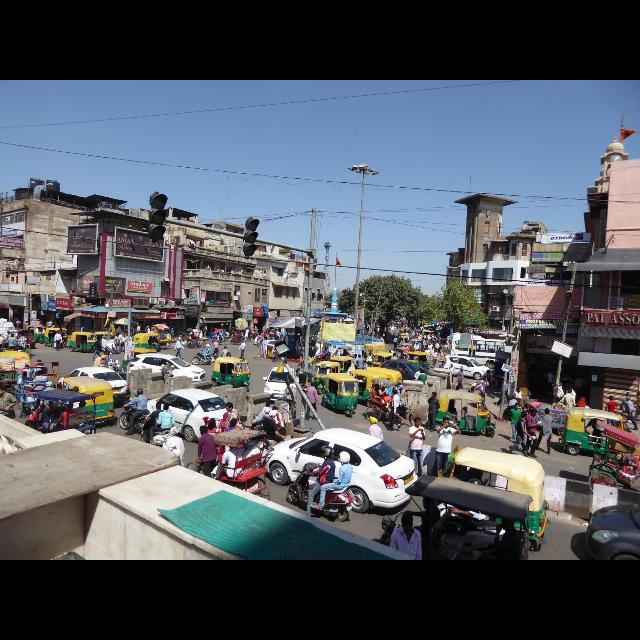head: (401, 514, 415, 532), (322, 447, 334, 459), (468, 480, 480, 492), (340, 453, 350, 463), (442, 417, 450, 428), (200, 425, 208, 435), (225, 402, 233, 412), (171, 427, 179, 437), (45, 404, 53, 414), (414, 417, 422, 427), (269, 409, 277, 418), (578, 399, 586, 408), (223, 412, 230, 422), (230, 419, 238, 427), (66, 403, 74, 411), (79, 400, 87, 408), (370, 417, 378, 425), (229, 440, 237, 448), (0, 386, 6, 396), (522, 412, 528, 421), (209, 419, 215, 427), (265, 408, 271, 416), (265, 400, 271, 408), (137, 388, 143, 396), (531, 409, 537, 417), (156, 404, 162, 411), (514, 404, 520, 411), (272, 406, 278, 412), (163, 404, 169, 410), (46, 405, 52, 411), (47, 382, 53, 388), (22, 371, 28, 377), (38, 371, 44, 377), (24, 364, 30, 370), (101, 354, 107, 360), (544, 408, 550, 414), (625, 396, 631, 402), (626, 392, 632, 398), (554, 397, 560, 403), (431, 392, 437, 398), (392, 390, 398, 396), (310, 382, 316, 388), (285, 379, 291, 385), (18, 346, 24, 350), (609, 396, 613, 402), (592, 414, 598, 418), (516, 388, 522, 392), (484, 376, 488, 382), (400, 385, 404, 391), (419, 368, 423, 374), (442, 360, 446, 366), (21, 333, 25, 337), (11, 334, 15, 338), (95, 338, 99, 342), (108, 353, 112, 357), (568, 390, 572, 394), (569, 386, 573, 390), (559, 382, 563, 386), (505, 378, 509, 382), (461, 368, 465, 372), (206, 344, 210, 348), (351, 364, 355, 368), (358, 354, 362, 358), (354, 354, 358, 358), (422, 370, 426, 374), (165, 362, 169, 366), (59, 328, 62, 332), (82, 324, 85, 328), (451, 364, 454, 368), (225, 346, 228, 350), (55, 322, 57, 326), (56, 332, 60, 334), (116, 334, 120, 336), (124, 334, 126, 338), (512, 395, 514, 399), (216, 338, 218, 342), (180, 338, 182, 342), (276, 342, 278, 346), (370, 352, 372, 356), (394, 353, 396, 357), (49, 320, 52, 322), (125, 334, 128, 336), (242, 341, 244, 344), (162, 331, 164, 334), (336, 350, 339, 352), (8, 332, 10, 334), (0, 334, 2, 336), (17, 319, 19, 321), (26, 322, 28, 324), (118, 333, 120, 335), (130, 335, 132, 337), (167, 332, 169, 334), (148, 326, 150, 328), (246, 328, 248, 330), (260, 333, 262, 335), (266, 330, 268, 332), (261, 331, 263, 333), (278, 330, 280, 332), (326, 346, 328, 348), (334, 346, 336, 348), (389, 350, 391, 352), (396, 337, 398, 339), (394, 333, 396, 335), (256, 327, 258, 329)
person: (300, 444, 338, 524), (308, 448, 354, 512), (433, 415, 463, 487), (160, 424, 187, 502), (193, 422, 219, 498), (258, 410, 286, 472), (507, 410, 538, 460), (211, 441, 247, 484), (362, 414, 386, 478), (122, 387, 152, 437), (146, 402, 177, 450), (406, 415, 428, 481), (51, 400, 80, 444), (141, 399, 167, 447), (250, 399, 274, 447), (533, 407, 555, 457), (202, 417, 222, 471), (523, 406, 543, 460), (1, 384, 20, 440), (40, 378, 60, 428), (38, 394, 61, 434), (264, 404, 284, 446), (301, 380, 321, 422), (559, 386, 577, 432), (36, 403, 60, 437), (584, 414, 604, 454), (224, 401, 242, 445), (507, 401, 525, 445), (386, 388, 404, 432), (223, 417, 239, 465), (72, 398, 90, 440), (216, 412, 230, 464), (425, 390, 441, 434), (622, 394, 640, 432), (551, 379, 567, 421), (602, 394, 620, 431), (572, 397, 588, 438), (279, 377, 297, 413), (13, 370, 32, 404), (618, 389, 634, 429), (27, 368, 49, 396), (495, 376, 513, 408), (394, 384, 408, 424), (551, 395, 567, 429), (475, 374, 491, 408), (505, 395, 521, 427), (564, 384, 576, 422), (453, 366, 467, 396), (263, 408, 279, 434), (160, 362, 174, 391), (92, 353, 106, 381), (512, 384, 526, 412), (16, 332, 28, 362), (346, 362, 358, 392), (90, 338, 104, 362), (416, 369, 428, 397), (20, 363, 32, 389), (220, 346, 232, 372), (173, 336, 185, 362), (105, 352, 117, 376), (355, 353, 365, 381), (52, 331, 64, 353), (6, 333, 16, 359), (447, 362, 457, 388), (414, 366, 424, 392), (14, 346, 24, 370), (4, 330, 14, 354), (210, 337, 220, 361), (389, 352, 399, 376), (237, 340, 247, 362), (202, 342, 212, 364), (321, 344, 332, 364), (271, 342, 281, 362), (332, 349, 342, 369), (329, 344, 338, 364), (116, 331, 124, 353), (438, 360, 446, 382), (50, 321, 60, 337), (57, 327, 65, 347), (256, 332, 264, 352), (366, 352, 374, 372), (354, 353, 361, 375), (80, 324, 88, 342), (158, 329, 166, 346), (164, 331, 172, 347), (388, 348, 396, 364), (392, 336, 400, 352), (113, 332, 119, 353), (124, 332, 130, 352), (120, 333, 126, 352), (0, 332, 4, 360), (252, 325, 260, 339), (16, 318, 22, 336), (24, 320, 30, 336), (46, 320, 54, 332), (145, 324, 151, 340), (244, 326, 250, 342), (263, 328, 269, 344), (128, 334, 134, 348), (276, 328, 282, 342), (260, 331, 266, 343), (392, 332, 396, 340)
